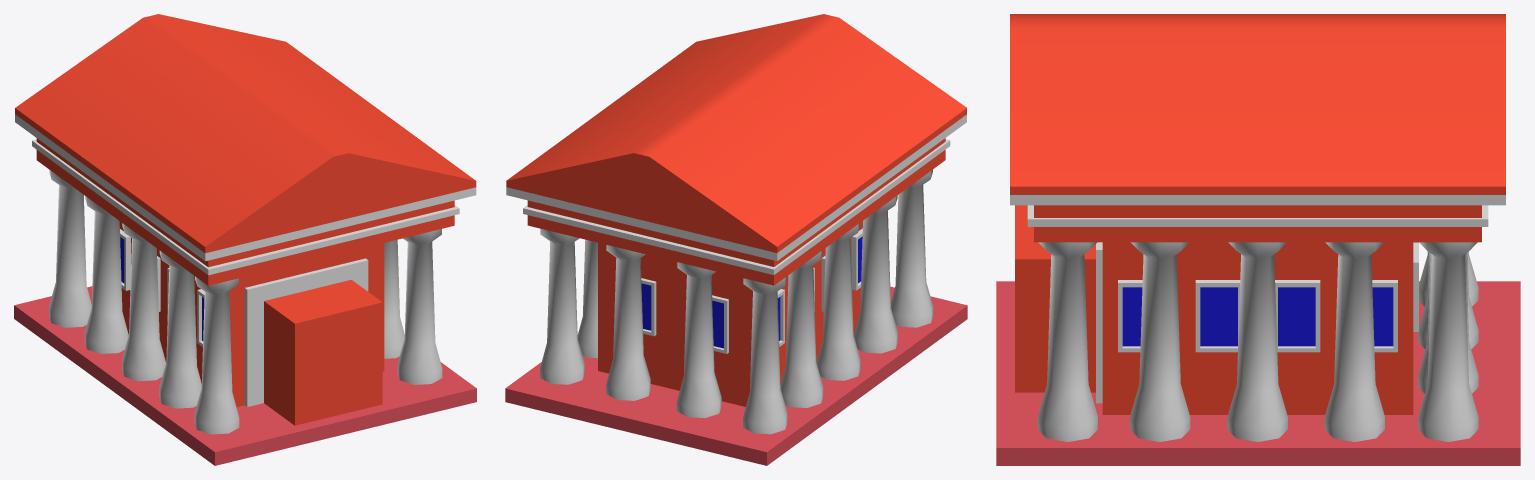
Rendered from houseGreek.fbx.
The picture shows the model from 3 angles, left to right: view 1: azimuth 30°, elevation 25°; view 2: azimuth 150°, elevation 25°; view 3: azimuth 270°, elevation 25°; orthographic projection. The views are drawn at different scales.
Visible parts, largest first — view 1: HouseGreek; view 2: HouseGreek; view 3: HouseGreek.
Part boxes in pixels (x1,y1,x2,y2): HouseGreek: (14, 14, 476, 465); HouseGreek: (505, 14, 967, 465); HouseGreek: (996, 14, 1520, 465).
Size of the model in its own units: 80.87 by 78.45 by 104.
